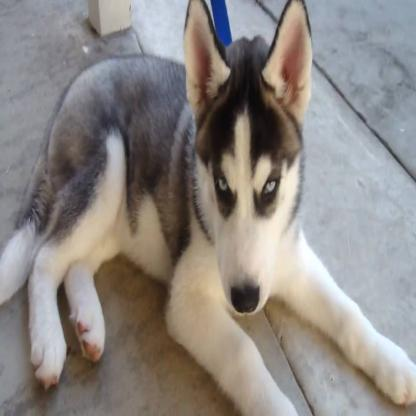husky: (0, 4, 414, 416)
